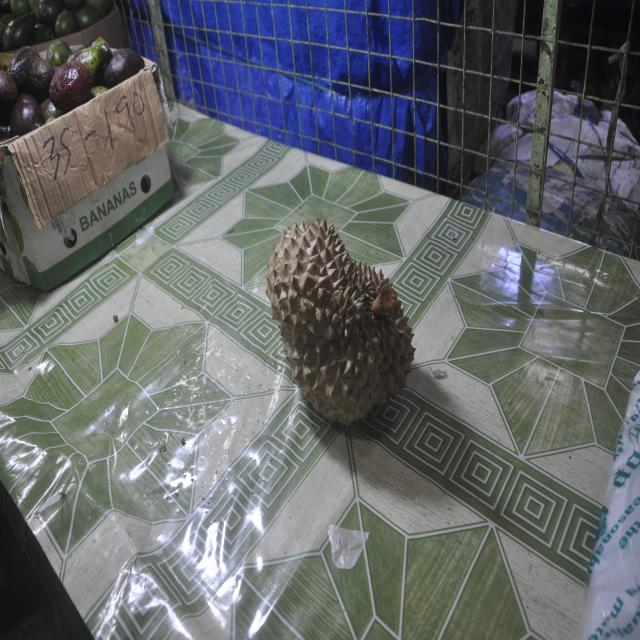mature: (265, 218, 415, 427)
